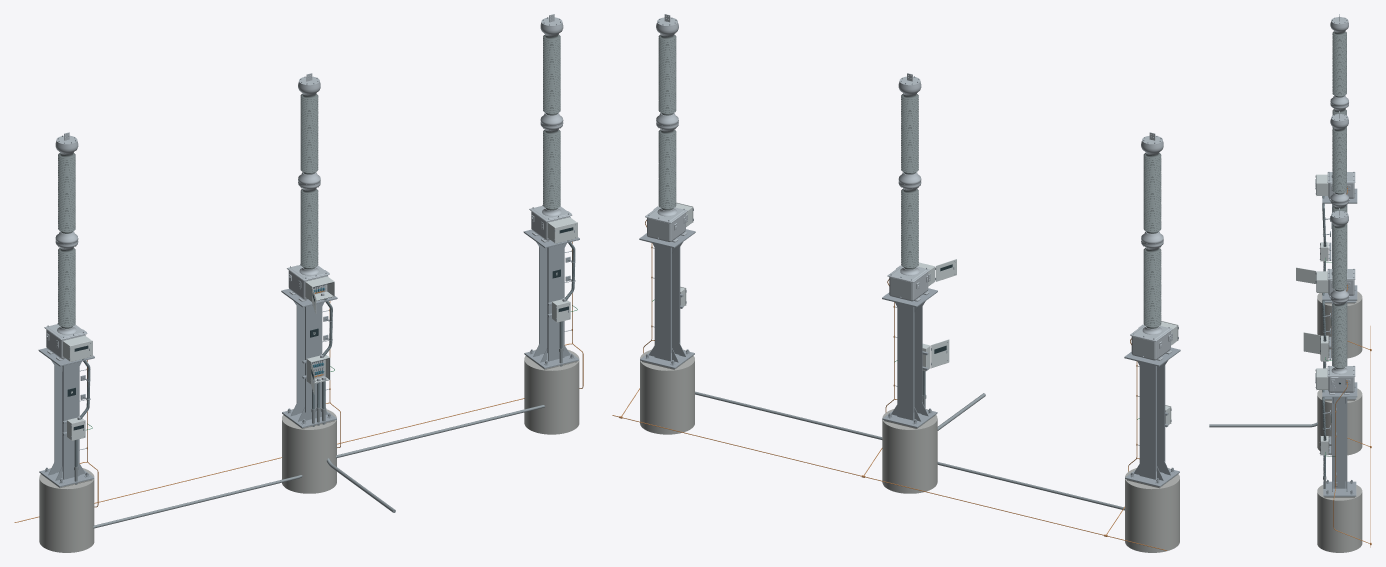
File: cvt-wide-flange-stand-service.glb
3 views of the same model, side by side, from view 1: azimuth 30°, elevation 25°; view 2: azimuth 150°, elevation 25°; view 3: azimuth 270°, elevation 25° (orthographic). The views are drawn at different scales.
Visible parts, largest first — view 1: Object100191, Object100824, Object100511, Object100470, Object100140, Object100783, Object100666, Object100667, Object100025, Object100024, Object100354, Object100355 (+2 smaller); view 2: Object100511, Object100824, Object100191, Object100470, Object100140, Object100783, Object100024, Object100025, Object100354, Object100355, Object100666, Object100667 (+6 smaller); view 3: Object100824, Object100511, Object100140, Object100191, Object100024, Object100355, Object100025, Object100667, Object100012, Object100747, Object100807, Object100676 (+11 smaller).
Boxes of the visible parts, x1,y1,x2,y2 form: Object100191: [39, 468, 94, 552]; Object100824: [524, 349, 579, 434]; Object100511: [282, 409, 336, 493]; Object100470: [54, 362, 79, 479]; Object100140: [539, 243, 564, 361]; Object100783: [296, 303, 322, 420]; Object100666: [300, 188, 318, 269]; Object100667: [300, 93, 318, 174]; Object100025: [543, 34, 560, 115]; Object100024: [543, 129, 560, 210]; Object100354: [58, 248, 75, 328]; Object100355: [58, 153, 75, 233]; Object100511: [882, 409, 937, 493]; Object100824: [640, 349, 694, 434]; Object100191: [1125, 468, 1179, 552]; Object100470: [1139, 362, 1165, 479]; Object100140: [654, 243, 680, 361]; Object100783: [897, 303, 922, 420]; Object100024: [658, 129, 676, 210]; Object100025: [658, 34, 676, 115]; Object100354: [1143, 248, 1161, 328]; Object100355: [1143, 153, 1161, 233]; Object100666: [901, 189, 918, 269]; Object100667: [901, 94, 918, 174]; Object100824: [1317, 485, 1362, 552]; Object100511: [1317, 388, 1362, 455]; Object100140: [1332, 397, 1347, 491]; Object100191: [1317, 291, 1362, 358]; Object100024: [1332, 303, 1346, 369]; Object100355: [1332, 31, 1346, 97]; Object100025: [1332, 225, 1346, 291]; Object100667: [1332, 128, 1346, 194]; Object100012: [1328, 366, 1354, 392]; Object100747: [1209, 422, 1317, 427]; Object100807: [1323, 481, 1356, 496]; Object100676: [1303, 332, 1320, 354].
Size of the model in its own units: 10.45 by 7.36 by 3.24.
